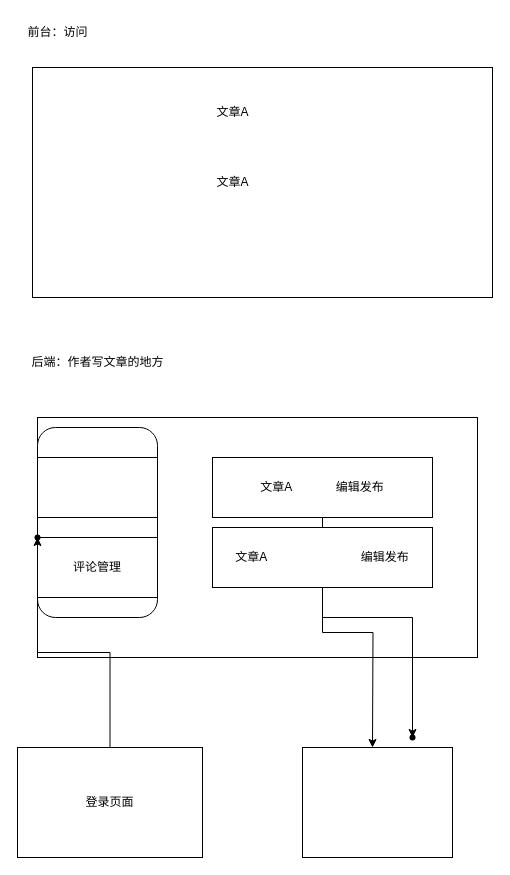
Some shapes in this 510 by 875 pixel diagram are drawn without their labels. Each missing label, with the centre of its shape:
"文章管理" goes at pixel 97 487.
"文章编辑页面" goes at pixel 377 802.
